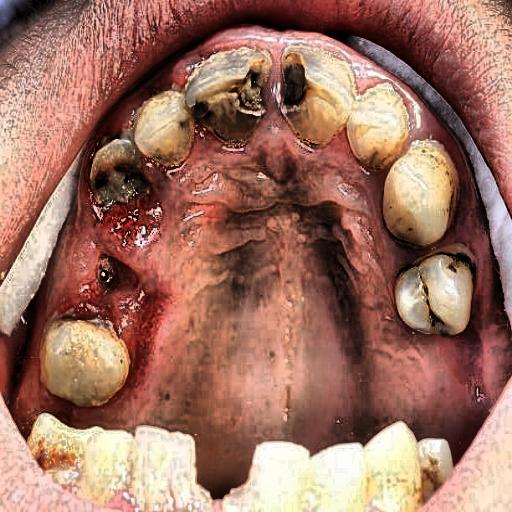Gingivitis: (43, 175, 186, 357)
